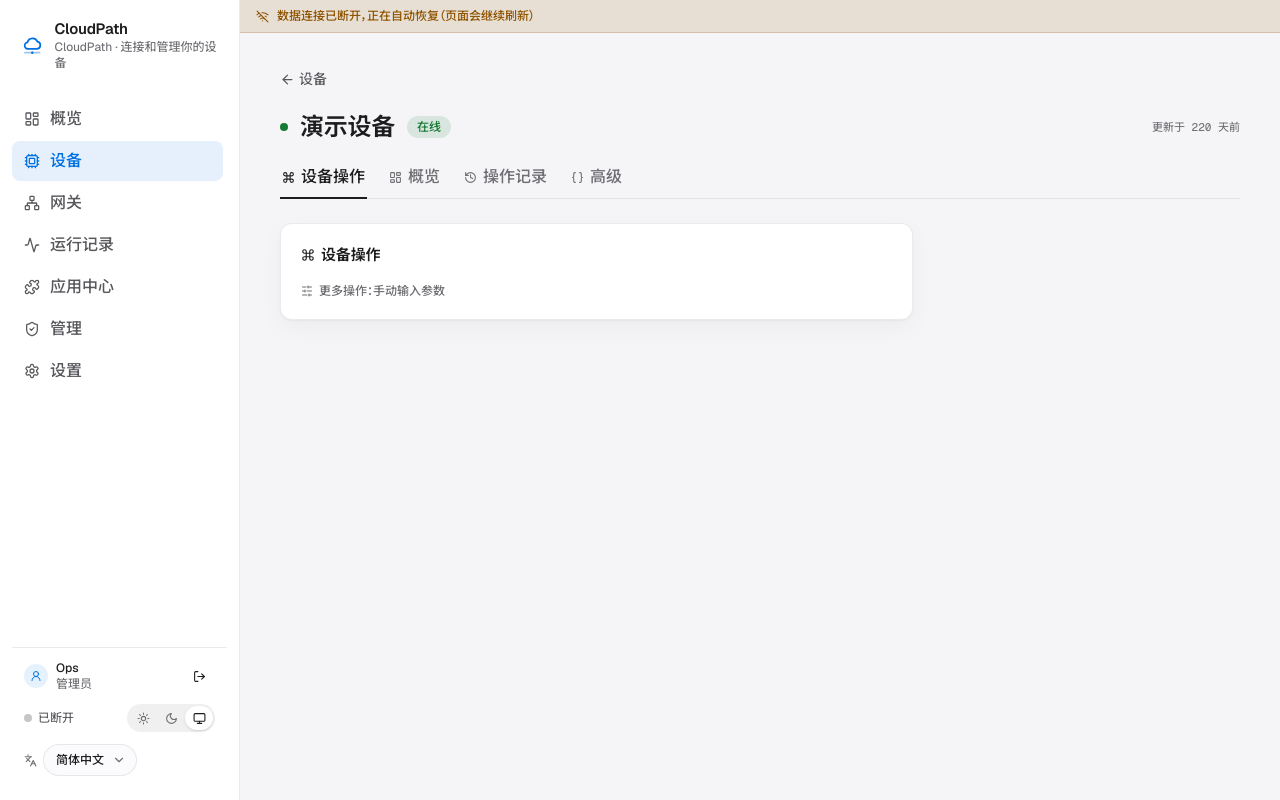
Test: Schema 端点缺席时的设备详情页 › descriptor/capabilities 全 404 → 通用回落视图 + 操作集来自设备支持的操作
The width and height of the screenshot is (1280, 800).
Check: the heading "演示设备" is shown, box [300,109,395,145]
Check: the tab "概览" is shown, box [387,165,442,199]
// 高级 → 状态与趋势：通用回落视图，上报字段按类型渲染（标量成键值行，对象数组成表格，嵌套对象成 JSON）
Click the tab "高级" at (596, 182), box [569,165,624,199]
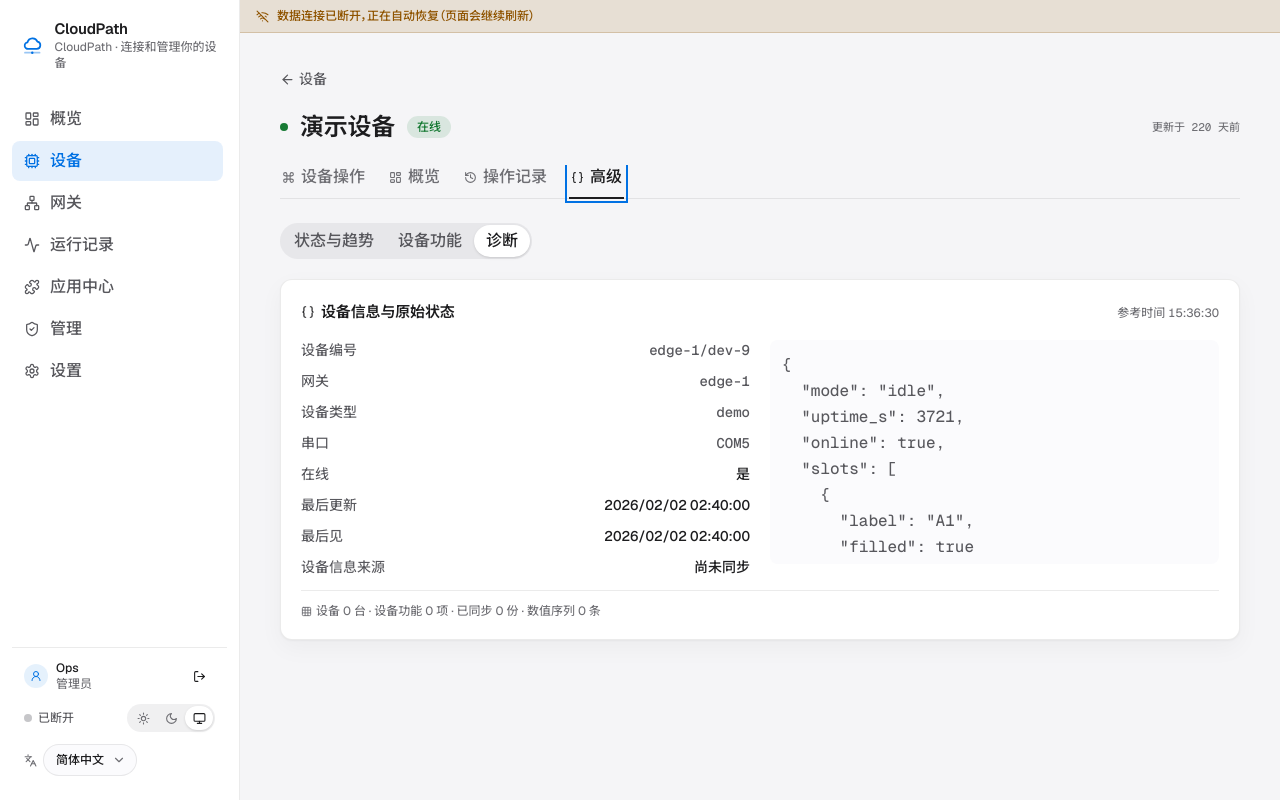
Click the button "状态与趋势" at (334, 241), box [282,225,386,257]
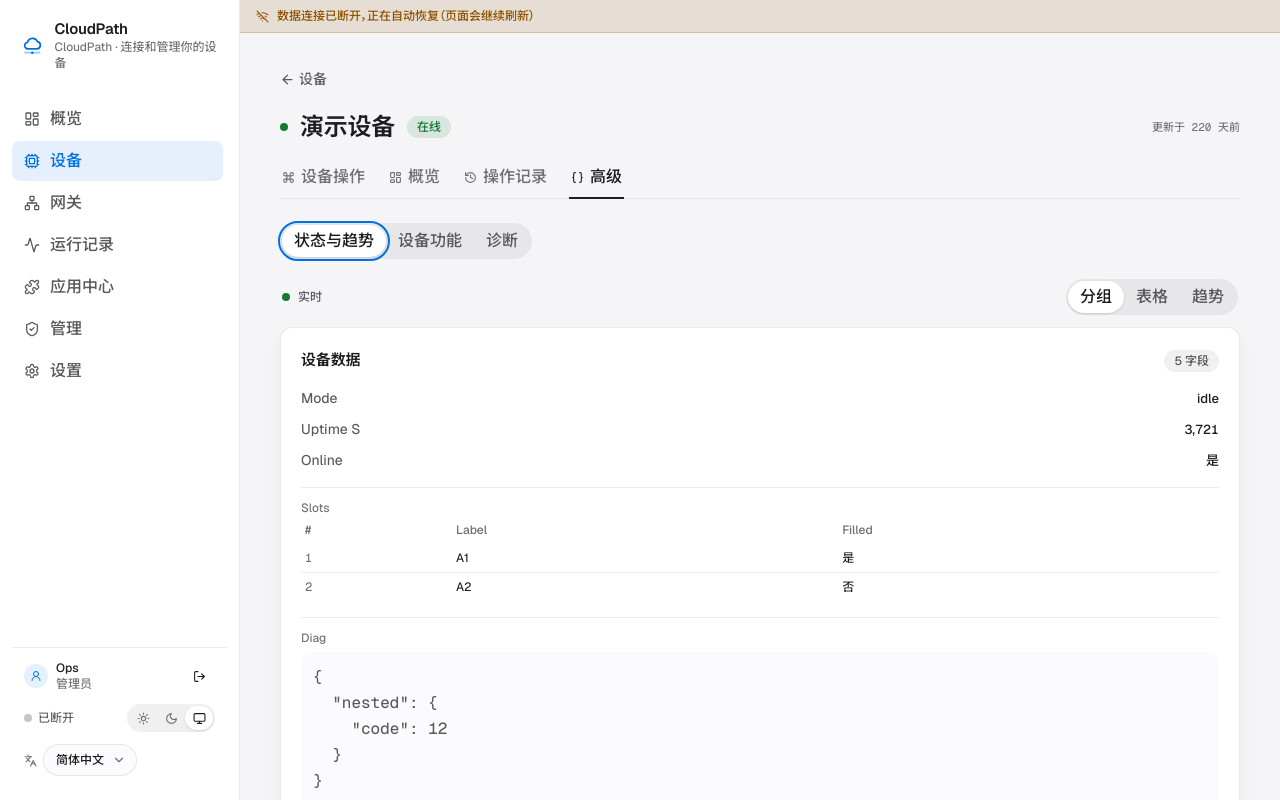
Check: the text "Mode" is shown, box [301,388,338,409]
Check: the heading "设备数据" is shown, box [301,349,360,371]
Check: the element named "Slots 数据表" is shown, box [301,522,1219,601]
// 控制分区：操作面板回落到后端白名单，而不是前端自己编一张命令表
Click the tab "设备操作" at (324, 182), box [280,165,367,199]
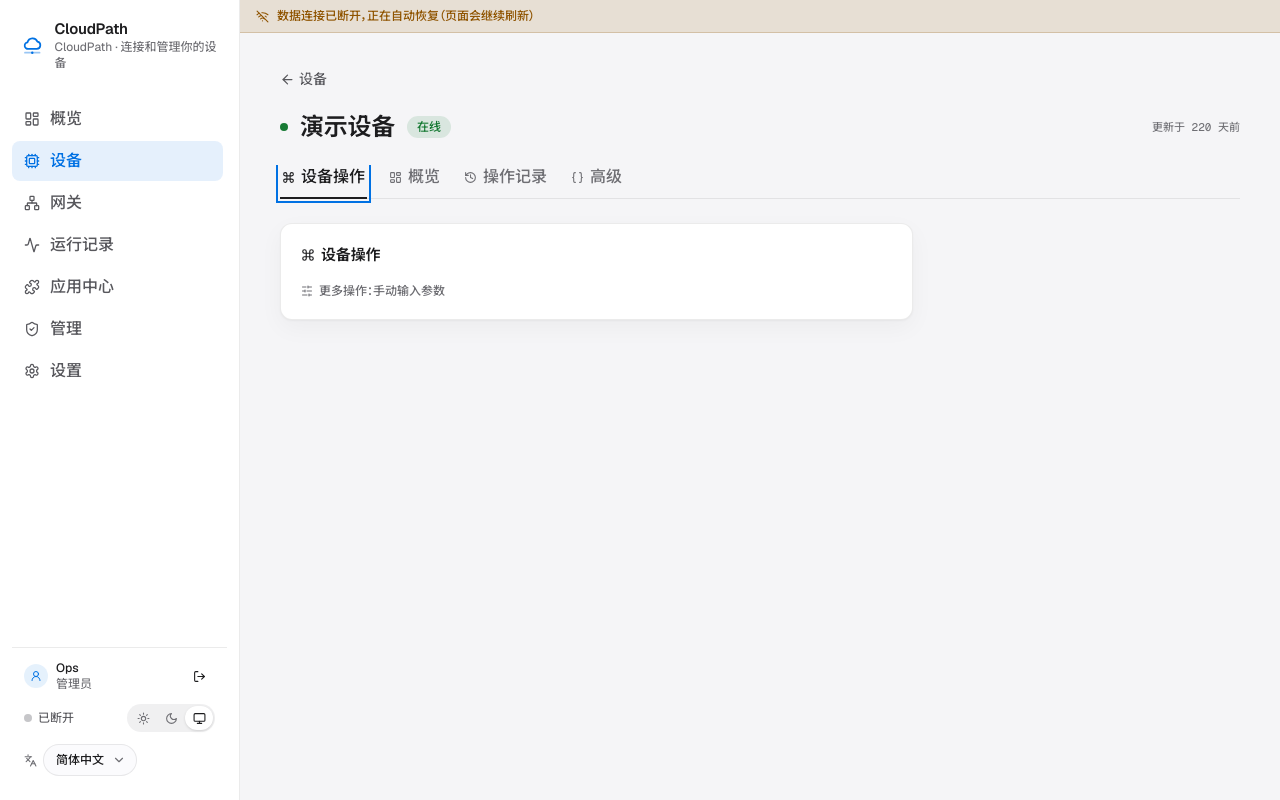
Check: the heading "更多操作：手动输入参数" is shown, box [301,282,445,298]
// 高级 → 设备功能：没有 Descriptor 就明说，不猜能力
Click the tab "高级" at (596, 182), box [569,165,624,199]
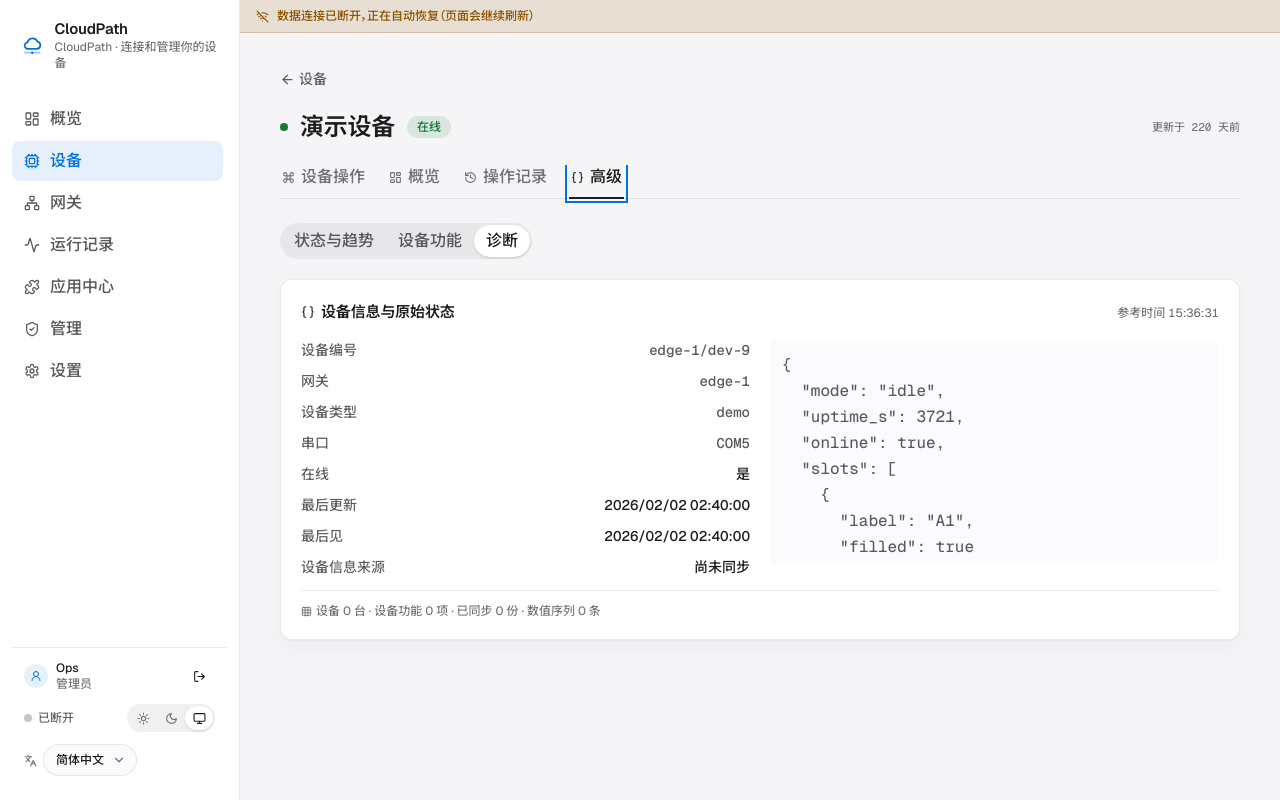
Click the button "设备功能" at (430, 241), box [386,225,474,257]
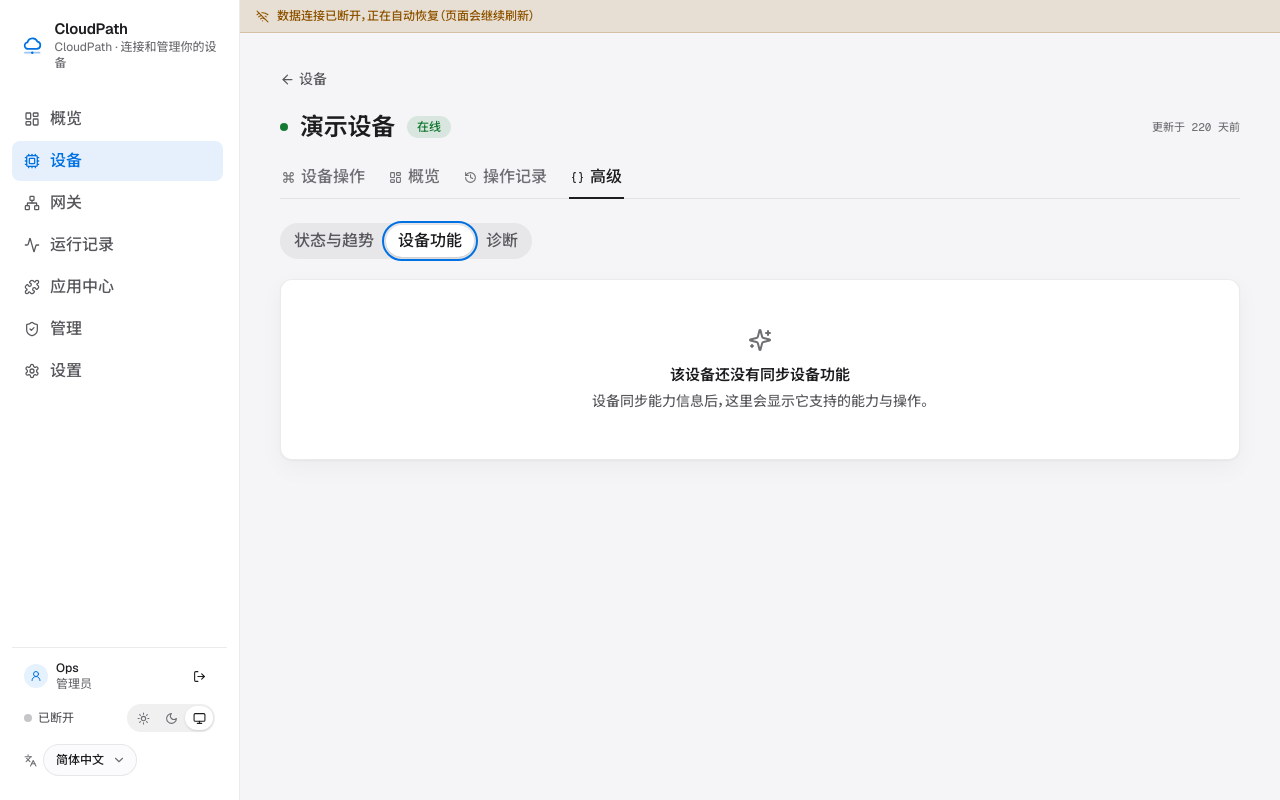
Check: the text "该设备还没有同步设备功能" is shown, box [670,364,850,386]
